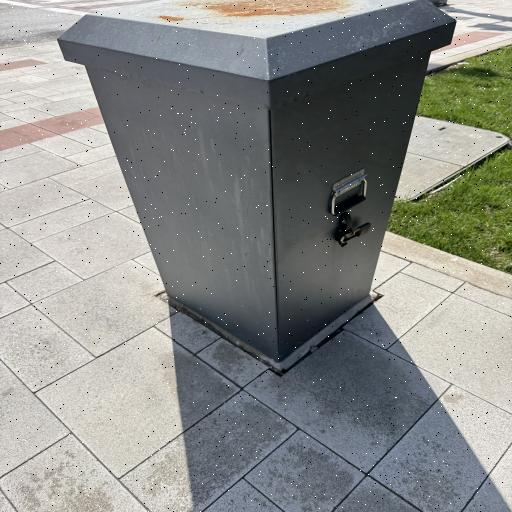Electrical Box: (55, 1, 456, 360)
